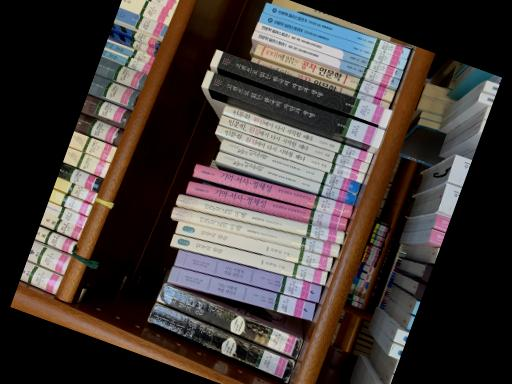book-spine: (210, 48, 393, 126), (202, 69, 385, 146), (147, 301, 296, 382), (156, 281, 304, 358), (215, 123, 366, 183), (222, 104, 374, 163), (219, 113, 370, 172), (192, 162, 353, 217), (259, 11, 407, 69), (255, 21, 404, 78), (171, 206, 340, 256), (176, 193, 345, 243), (252, 29, 400, 86), (263, 1, 411, 58), (254, 43, 396, 101), (168, 265, 316, 320), (186, 180, 348, 230), (170, 233, 328, 284), (175, 220, 334, 270), (174, 249, 322, 302), (220, 138, 361, 193), (216, 150, 357, 203), (251, 56, 391, 107)
